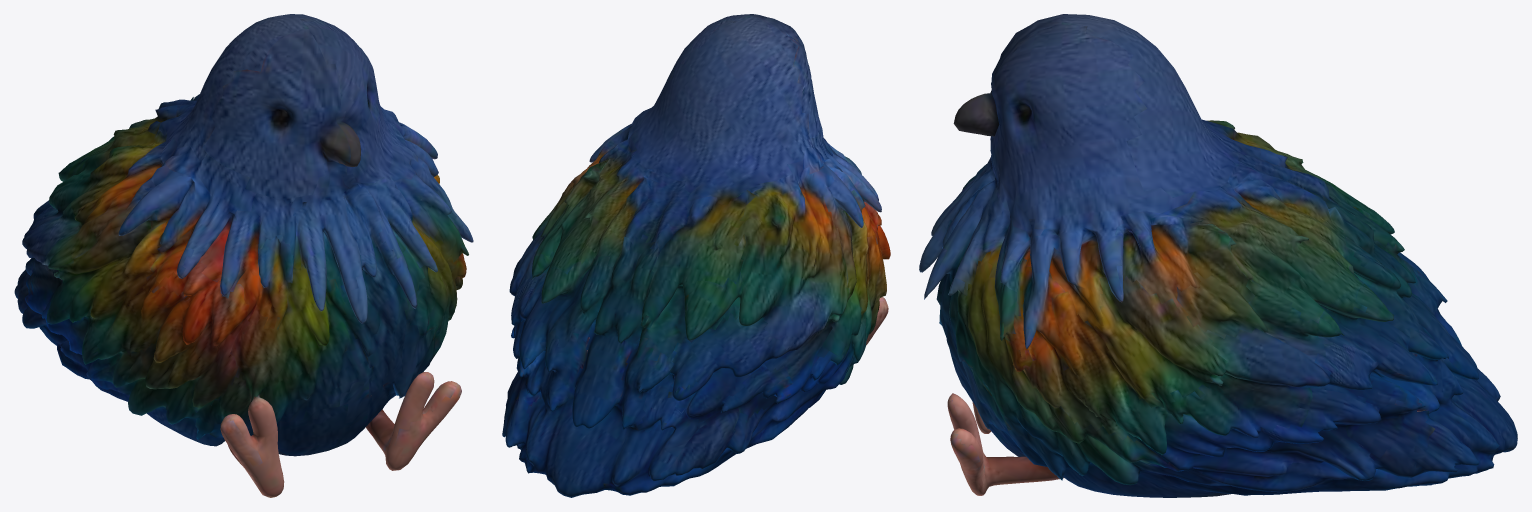
The model's file is nibbles.glb.
3 views of the same model, side by side, from view 1: azimuth 30°, elevation 25°; view 2: azimuth 150°, elevation 25°; view 3: azimuth 270°, elevation 25° (orthographic). The views are drawn at different scales.
Visible parts, largest first — view 1: nibbles; view 2: nibbles; view 3: nibbles.
Boxes of the visible parts, x1,y1,x2,y2 form: nibbles: (14, 14, 473, 497); nibbles: (502, 14, 890, 497); nibbles: (919, 14, 1517, 497).
Bounding box in the file's own units: 0.7366 × 0.8221 × 1.
1 material, 1 textured.
